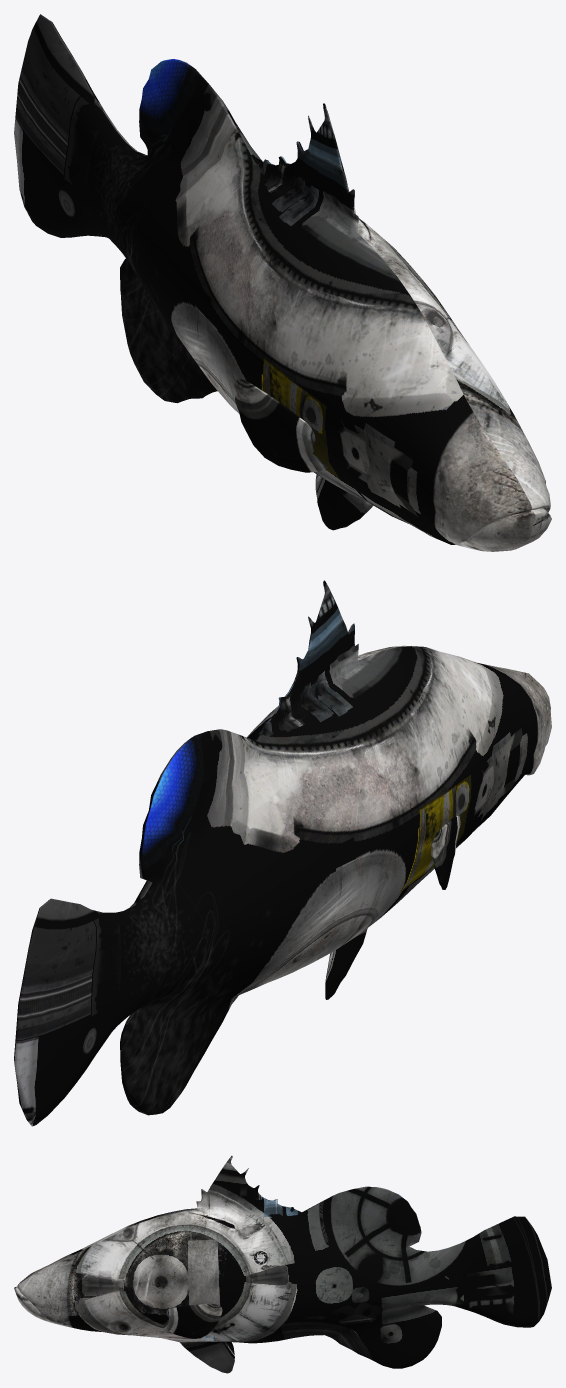
The model's file is barramundifish.obj.
3 renders of one model, top to bottom at view 1: azimuth 30°, elevation 25°; view 2: azimuth 150°, elevation 25°; view 3: azimuth 270°, elevation 25°, orthographic. The views are drawn at different scales.
Visible parts, largest first — view 1: BarramundiFish; view 2: BarramundiFish; view 3: BarramundiFish.
Part boxes in pixels (x1,y1,x2,y2): BarramundiFish: (14,14,551,551); BarramundiFish: (14,580,551,1126); BarramundiFish: (14,1155,551,1373).
Bounding box in the file's own units: 0.1429 × 0.2875 × 0.6431.
